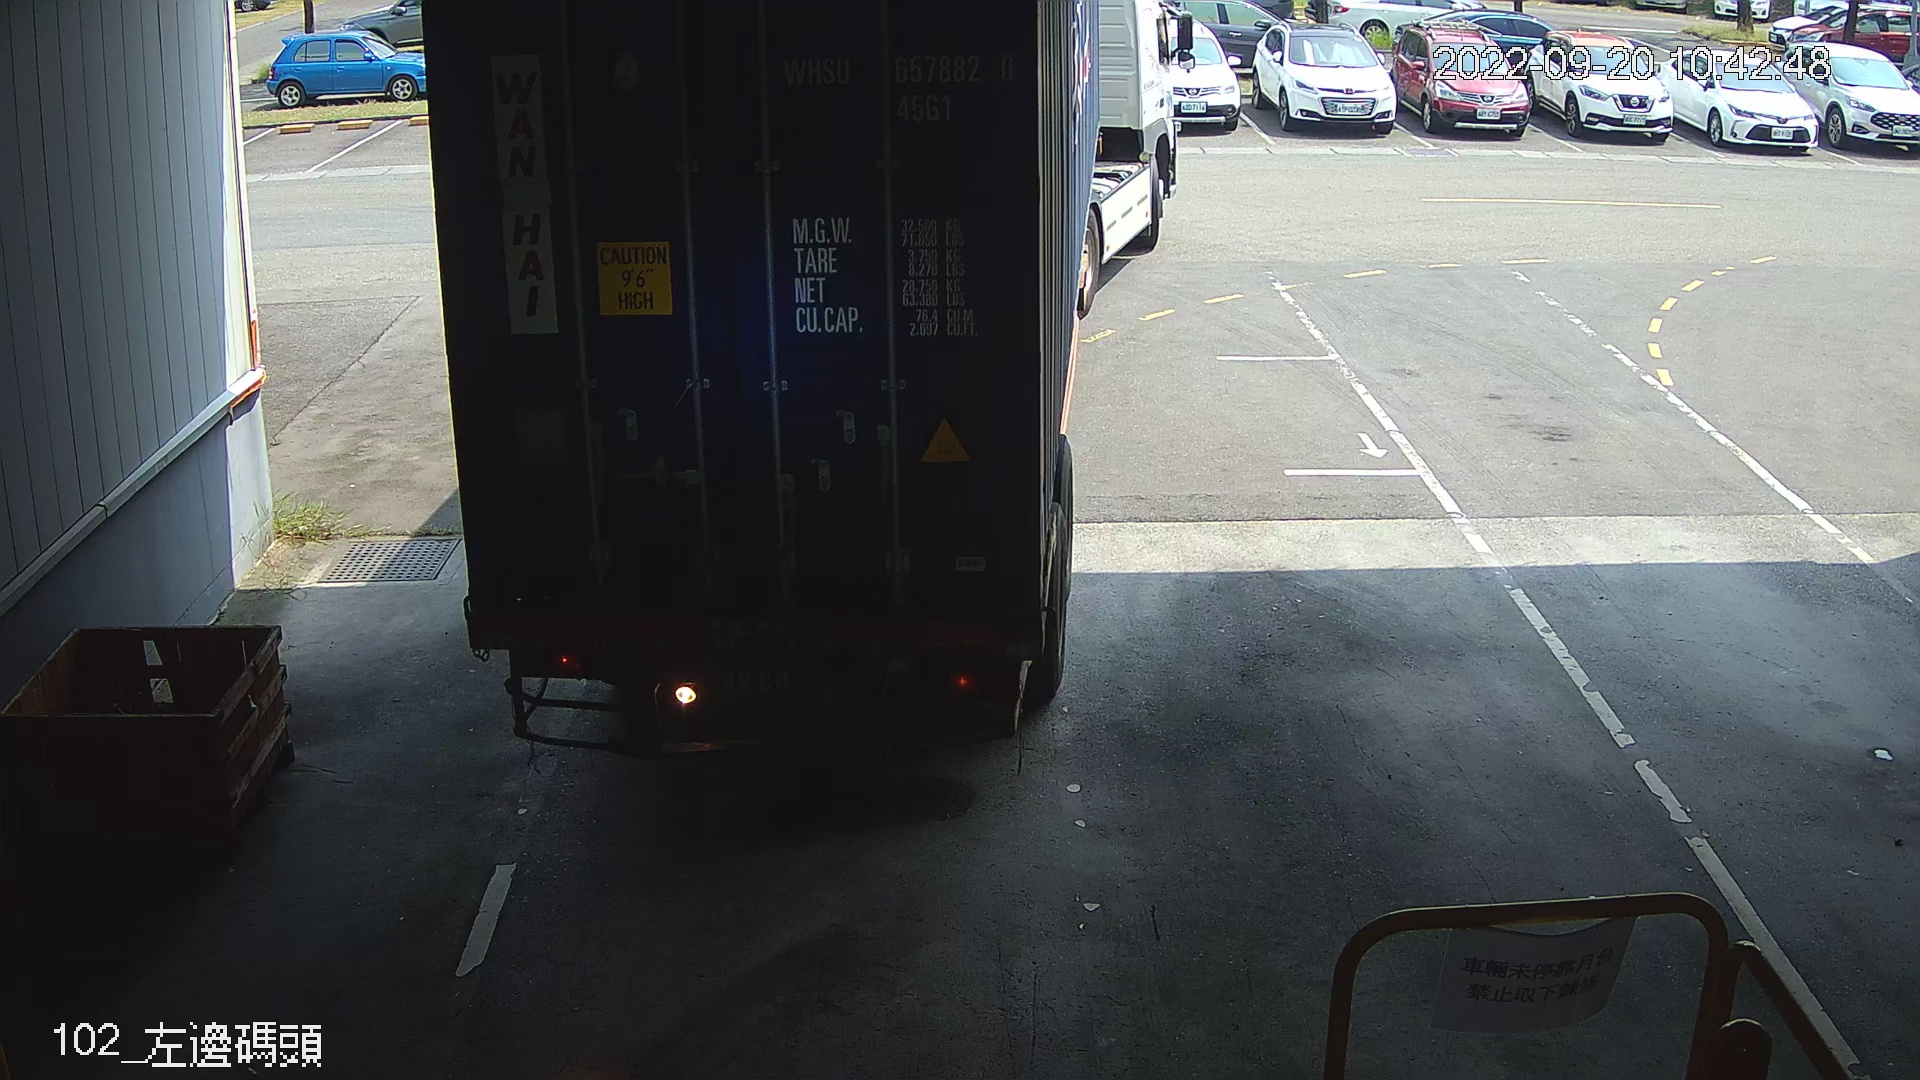container: (773, 42, 1026, 135)
